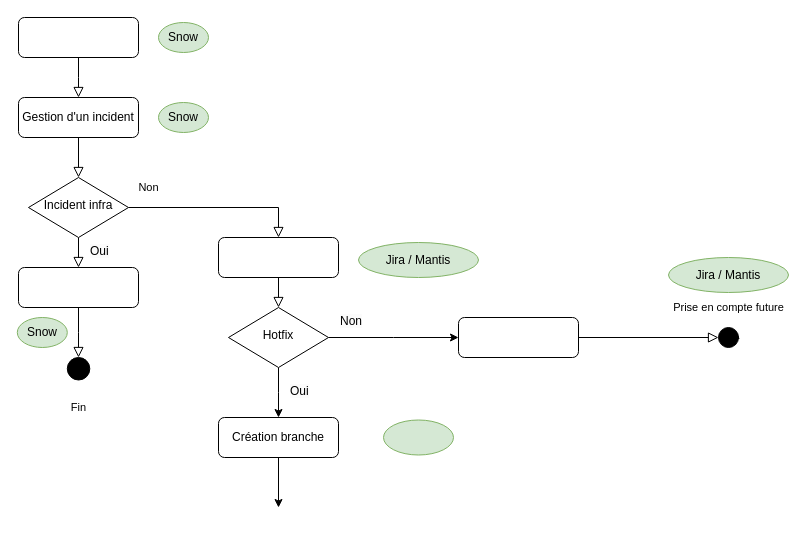
Image size: 807x533. Some labels were removed from this diagram. The centre of each missing label's shape, as x and y in pixels:
"Création d'un incident" belongs at (78,37).
"Evolution future" belongs at (518,337).
"Gitlab" belongs at (418,437).
"Résolution" belongs at (78,287).
"Ticket anomalie" belongs at (278,257).
